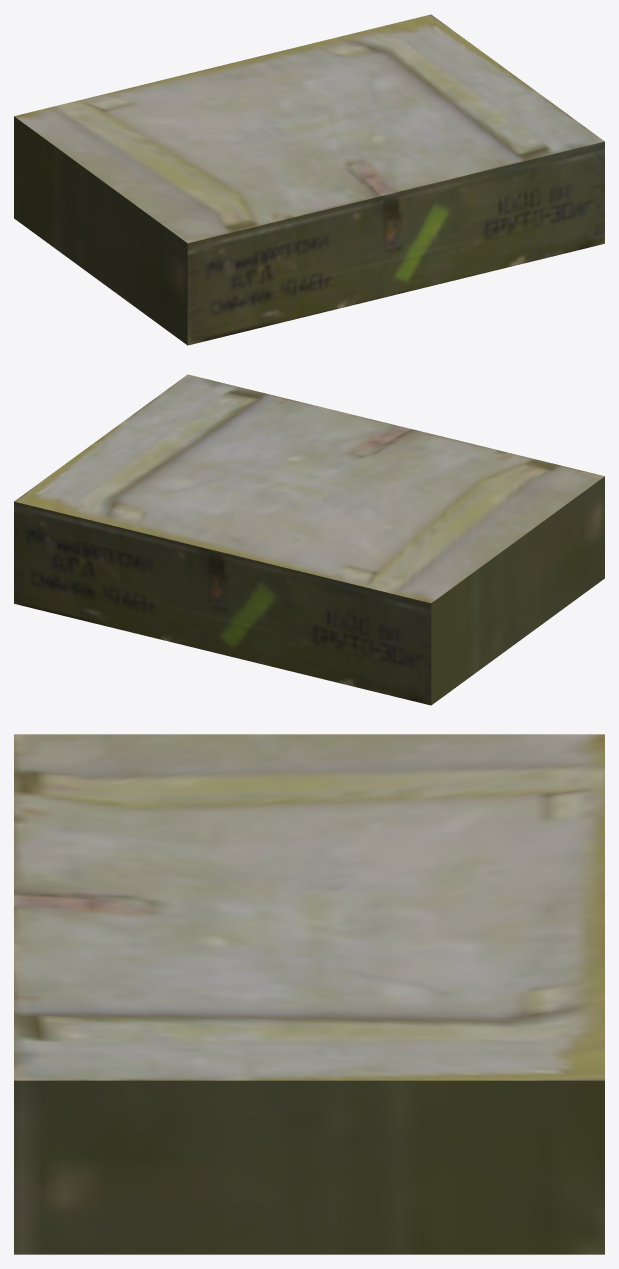
Rendered from ammo_crate.FBX.
The picture shows the model from 3 angles, top to bottom: view 1: azimuth 30°, elevation 25°; view 2: azimuth 150°, elevation 25°; view 3: azimuth 270°, elevation 25°; orthographic projection. The views are drawn at different scales.
Parts seen in each view (by area): view 1: ammo_crate; view 2: ammo_crate; view 3: ammo_crate.
Boxes of the visible parts, x1,y1,x2,y2 form: ammo_crate: (14,14,604,345); ammo_crate: (14,374,604,705); ammo_crate: (14,734,604,1254).
Bounding box in the file's own units: 36.05 × 8.44 × 25.99.
